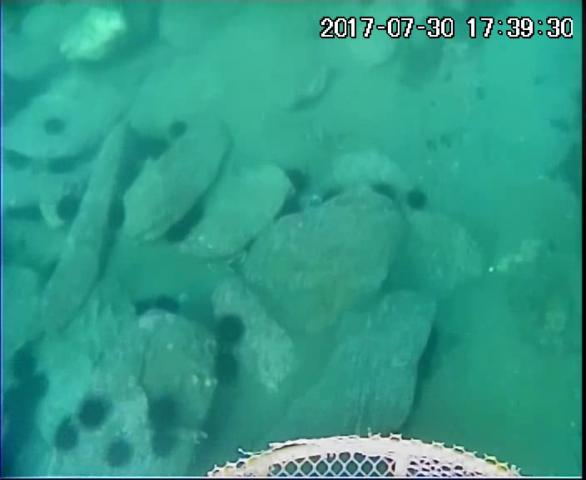echinus: (209, 347, 244, 390), (150, 395, 185, 437), (211, 314, 250, 349), (3, 386, 38, 425), (9, 350, 41, 383), (147, 431, 181, 462), (79, 396, 108, 430), (106, 440, 135, 473), (143, 135, 174, 165), (106, 199, 131, 235), (55, 195, 86, 224), (9, 203, 46, 227), (54, 423, 82, 454), (153, 292, 185, 319), (6, 147, 34, 177), (162, 222, 193, 247), (47, 155, 79, 177), (406, 187, 433, 213), (372, 180, 400, 205), (284, 168, 313, 191), (44, 118, 71, 142), (281, 195, 305, 221), (166, 120, 193, 143), (131, 298, 155, 320), (319, 188, 344, 209)
